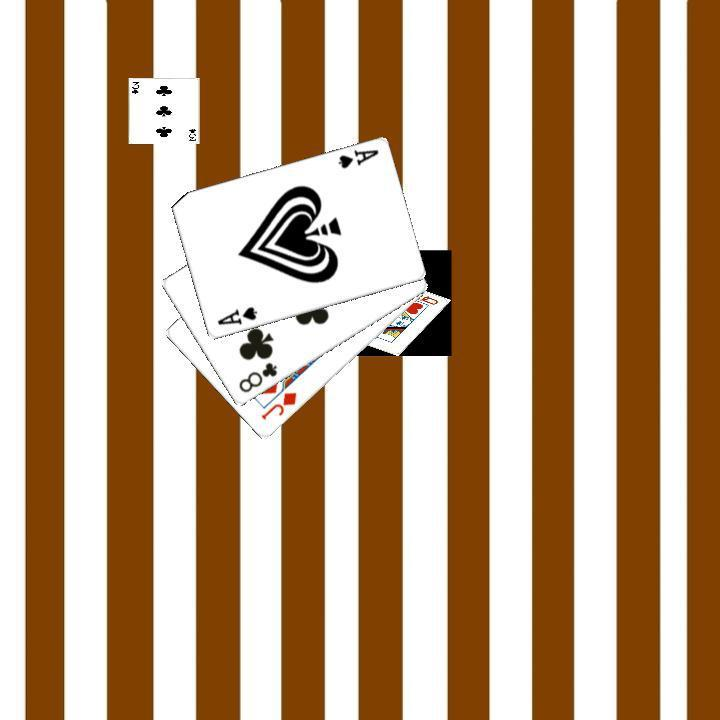8: (234, 358, 279, 395)
A: (333, 145, 381, 171), (213, 303, 259, 327)
J: (256, 388, 299, 422)
